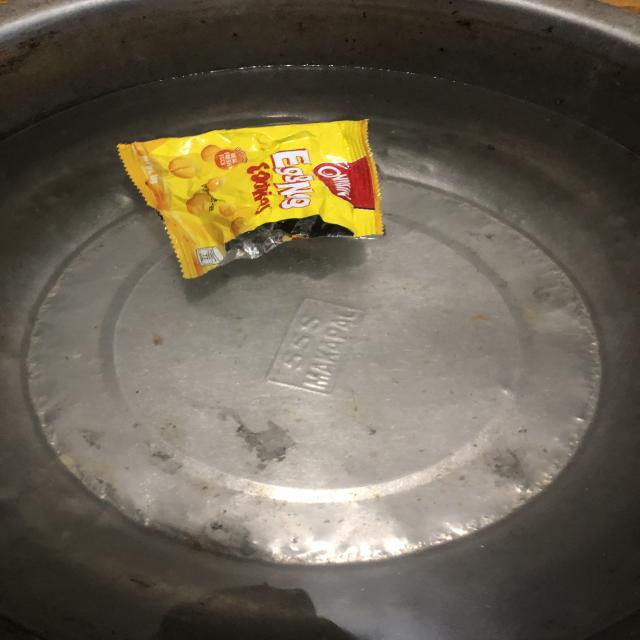Plastic Wrapper: (82, 92, 444, 294)
